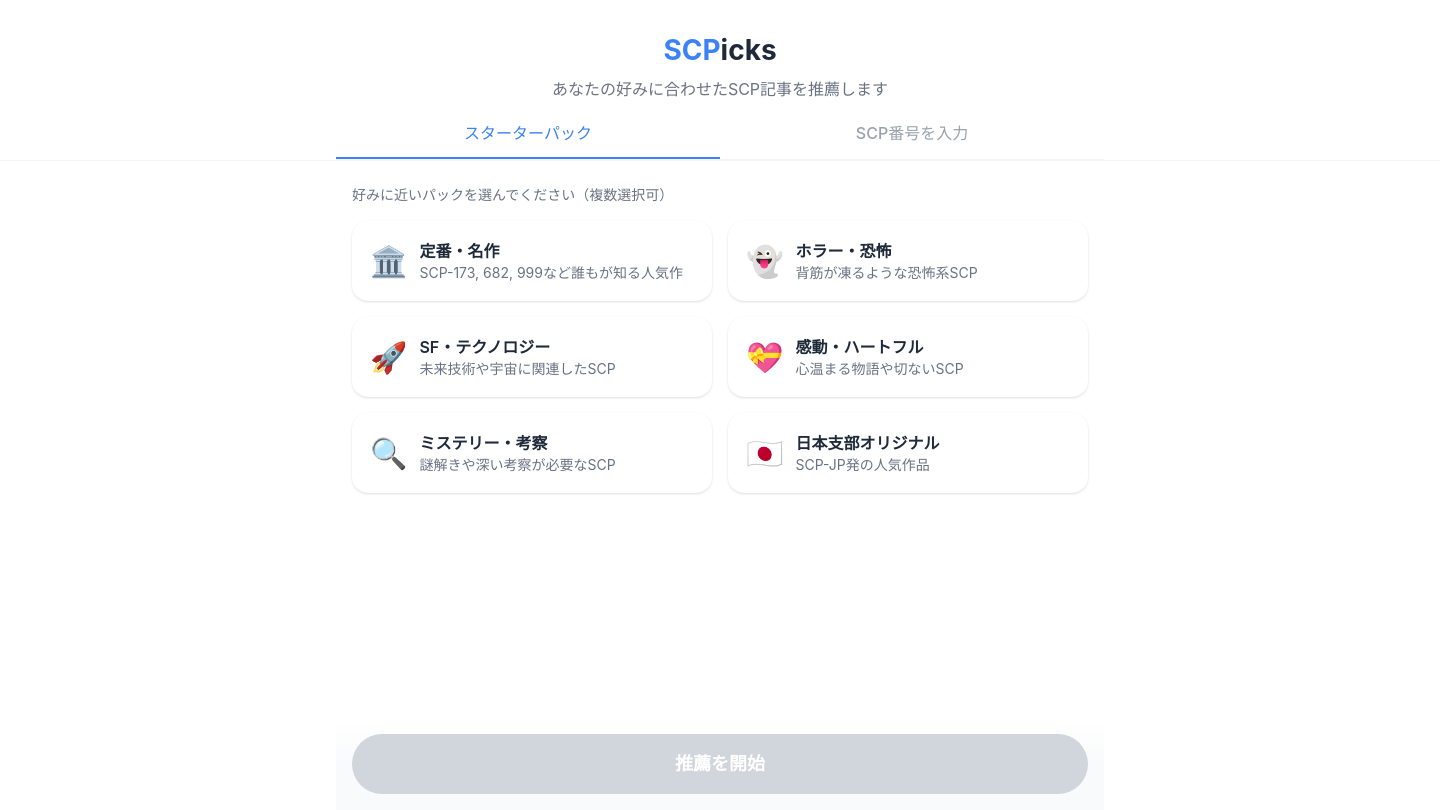
OnboardingPage › AC-2: 複数パック選択対応 › 複数のパックを同時に選択できる
Expected: the heading "ホラー・恐怖" is shown, [795, 241, 891, 261]
Click the button "👻 ホラー・恐怖 背筋が凍るような恐怖系SCP".
click(765, 261)  # box [728, 221, 1088, 301]
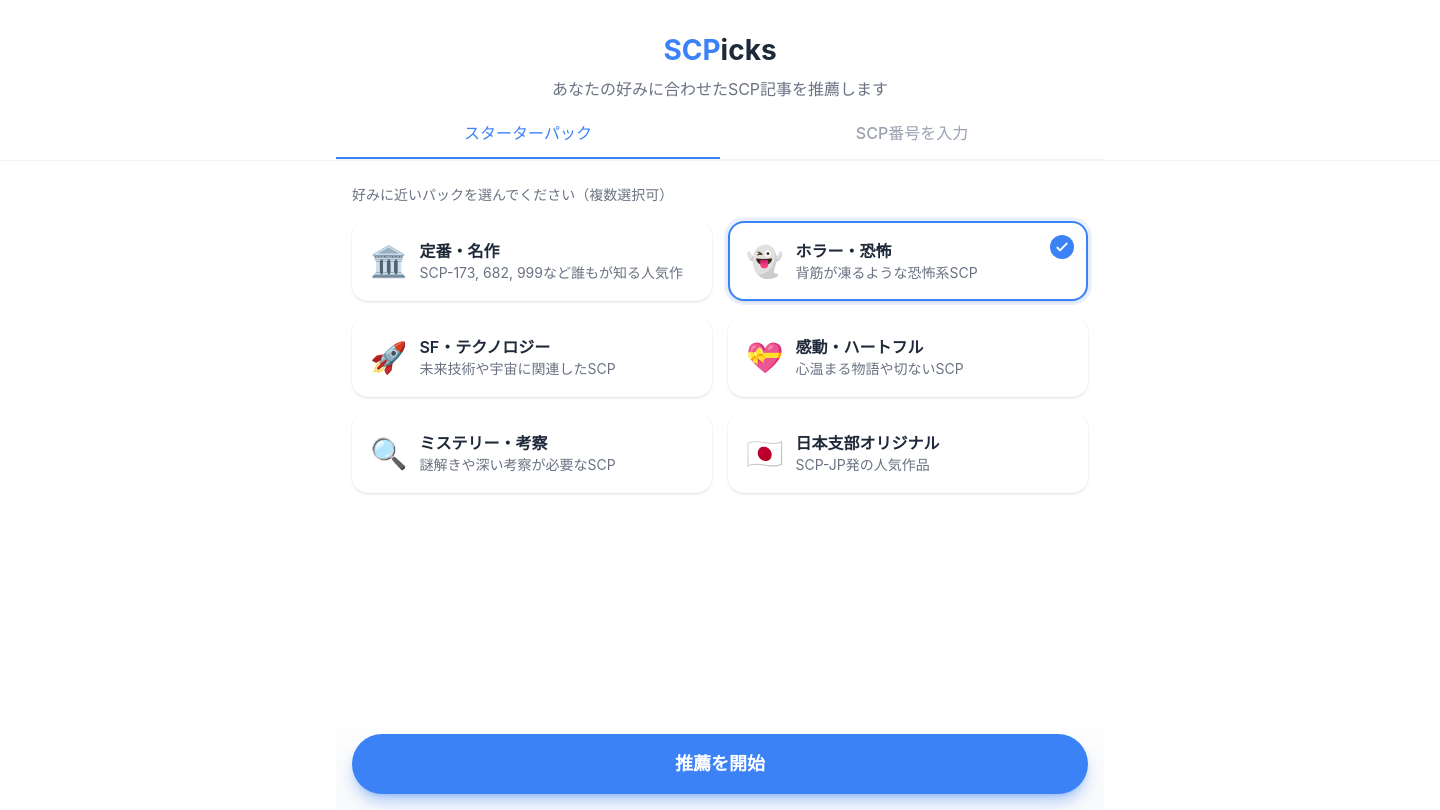
Click the button "🔍 ミステリー・考察 謎解きや深い考察が必要なSCP".
click(532, 453)  # box [352, 413, 712, 493]
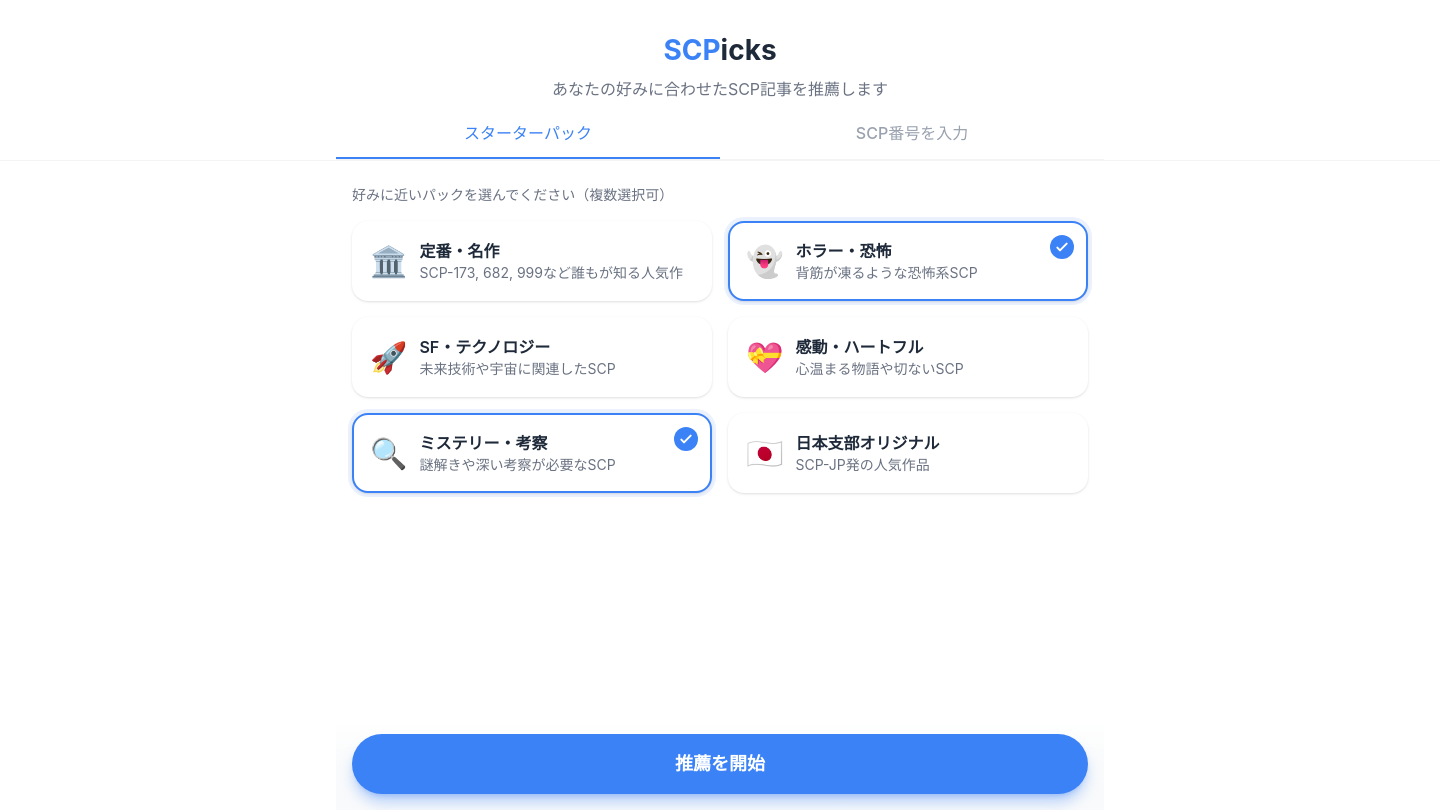
Click the button "🏛️ 定番・名作 SCP-173, 682, 999など誰もが知る人気作".
click(389, 261)  # box [352, 221, 712, 301]
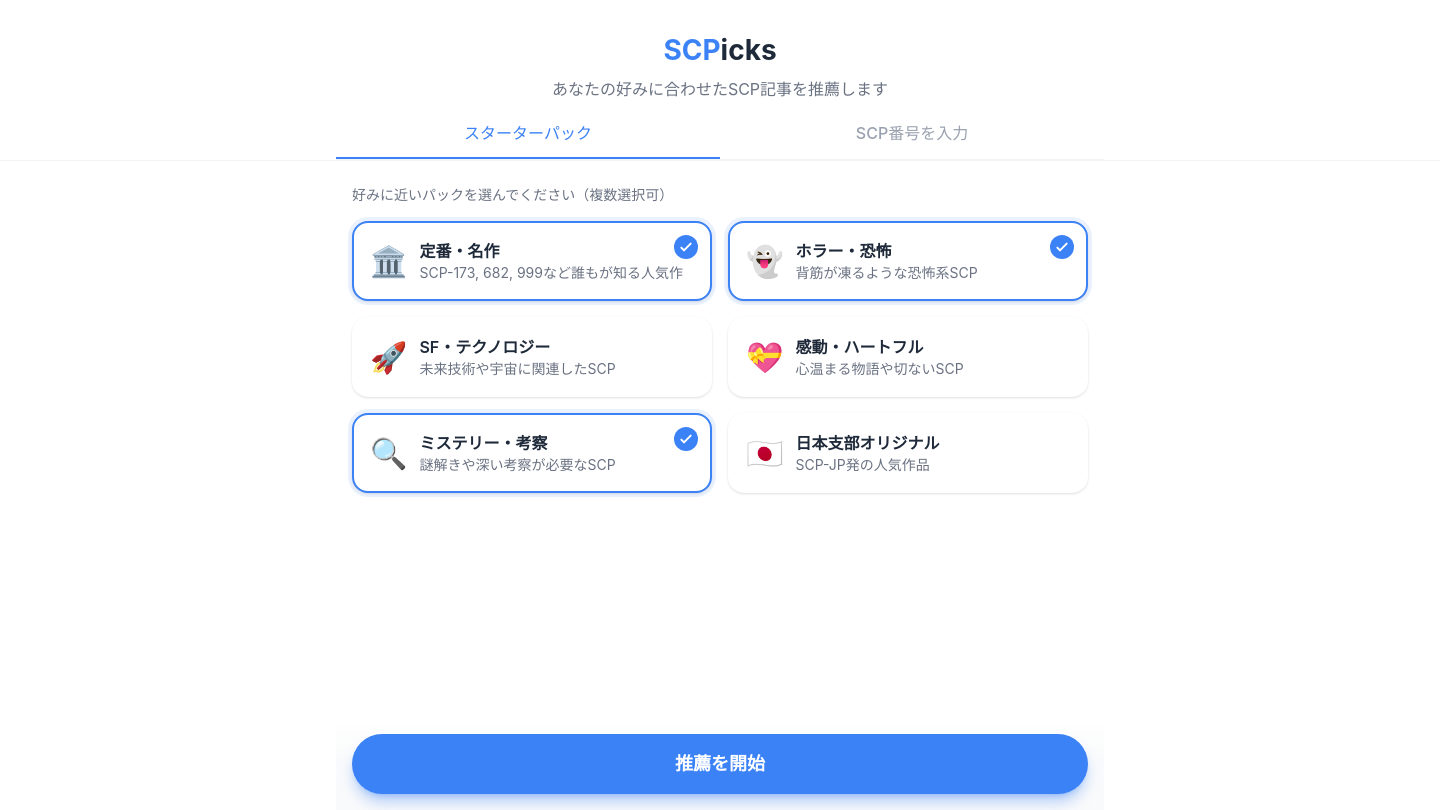
Expected: the number of elements with test id "pack-check" is 3, [674, 235, 698, 259]; [1050, 235, 1074, 259]; [674, 427, 698, 451]
